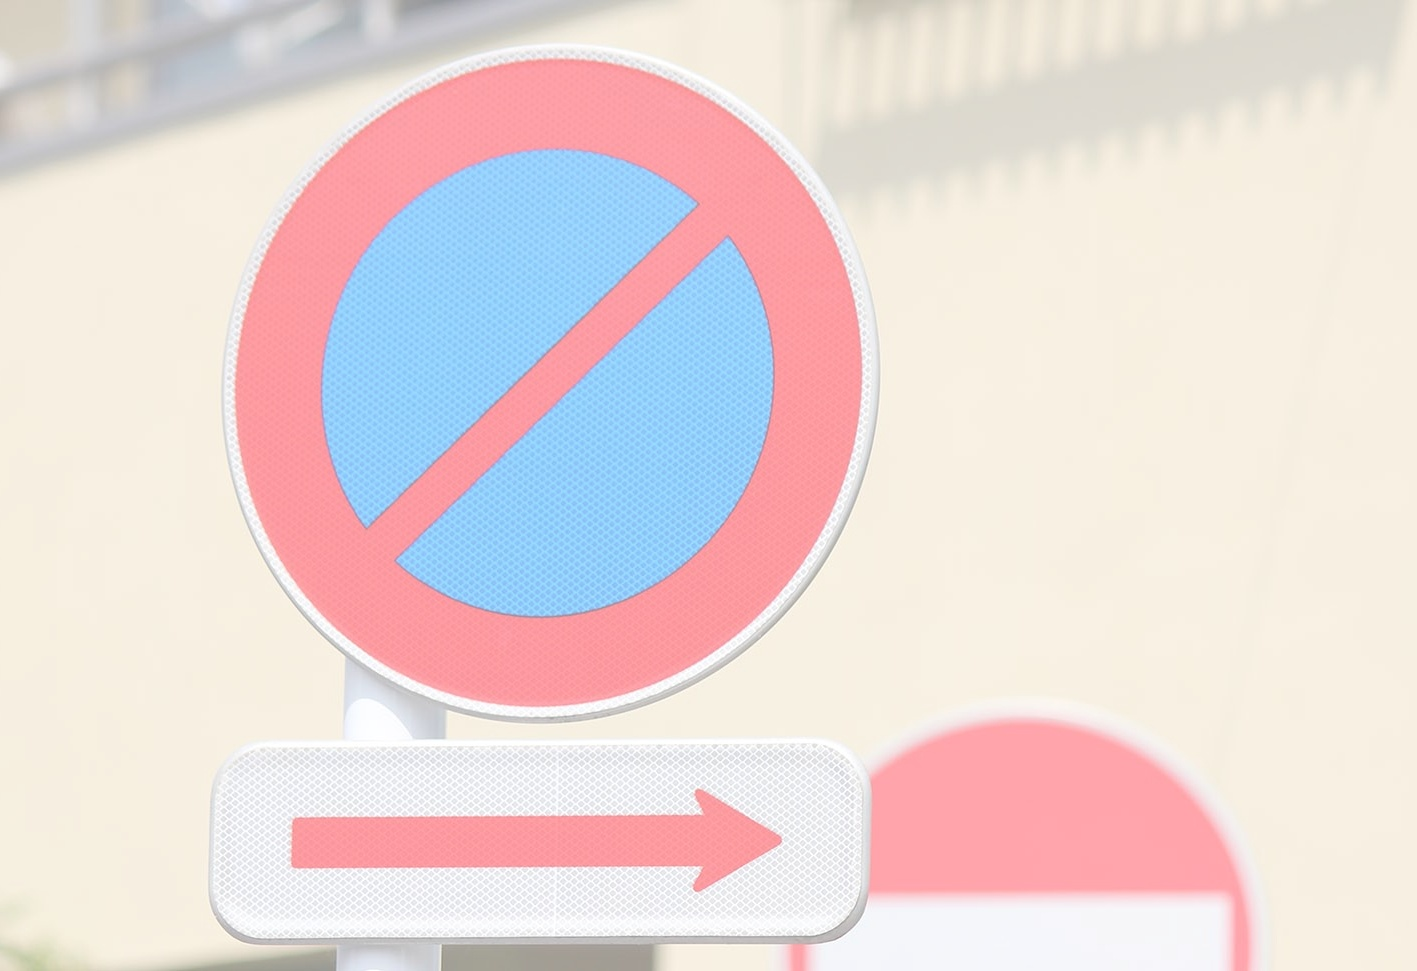Prohibition_sign: (195, 52, 880, 706)
